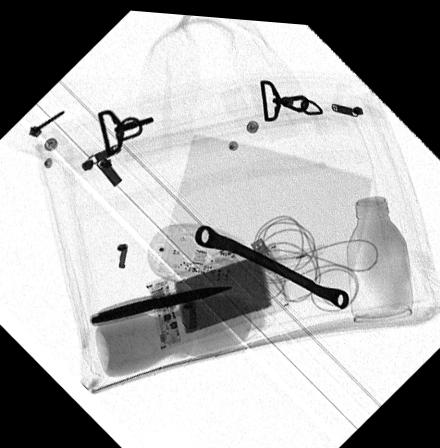Pliers: (89, 281, 233, 322)
Powerbank: (144, 238, 287, 346)
Wrench: (195, 221, 348, 303)
